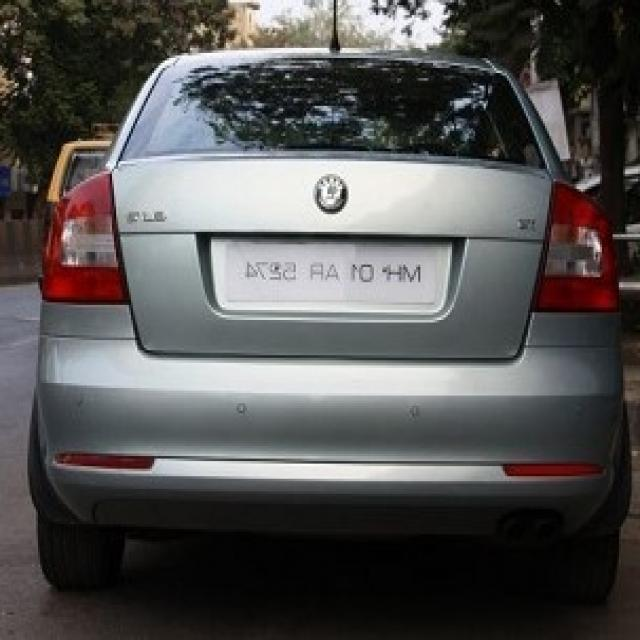license_plate: (214, 230, 447, 312)
